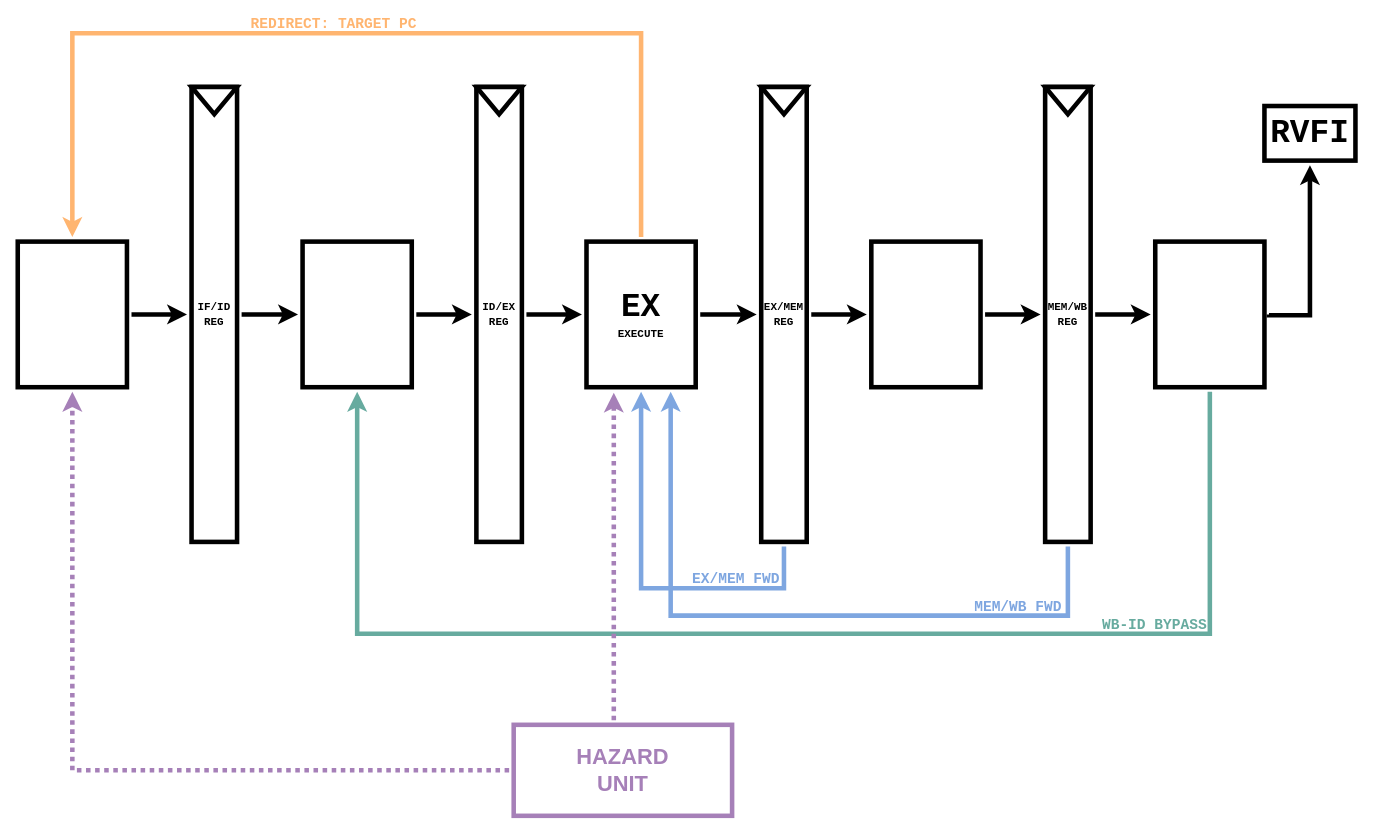
The diagram is 1373 pixels wide and 834 high, and some of its shapes have lost their labels. Here are the shapes that lost their labels. From the top down, the centre of each, then its label:
At point 72,314: "IF INSTRUCTION FETCH".
At point 357,314: "ID INSTRUCTION DECODE".
At point 925,314: "MEM MEMORY".
At point 1209,314: "WB WRITEBACK/ RETIRE".
